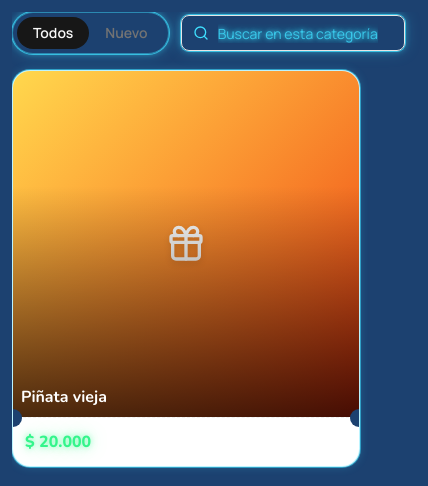
Test: CategoryProductsFilter › shows a message instead of an empty grid when no product matches the filter
The width and height of the screenshot is (428, 486).
Click the radio button labelled "Nuevo": click(126, 33) [89,17,164,49]
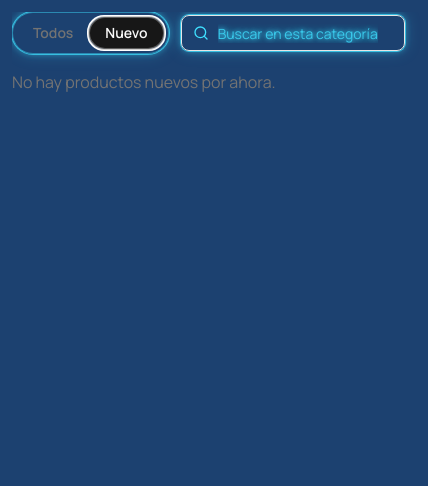
Expected: the text "No hay productos nuevos por ahora." is shown, [12,71,276,93]
